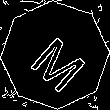M_NE: (21, 21, 89, 89)
